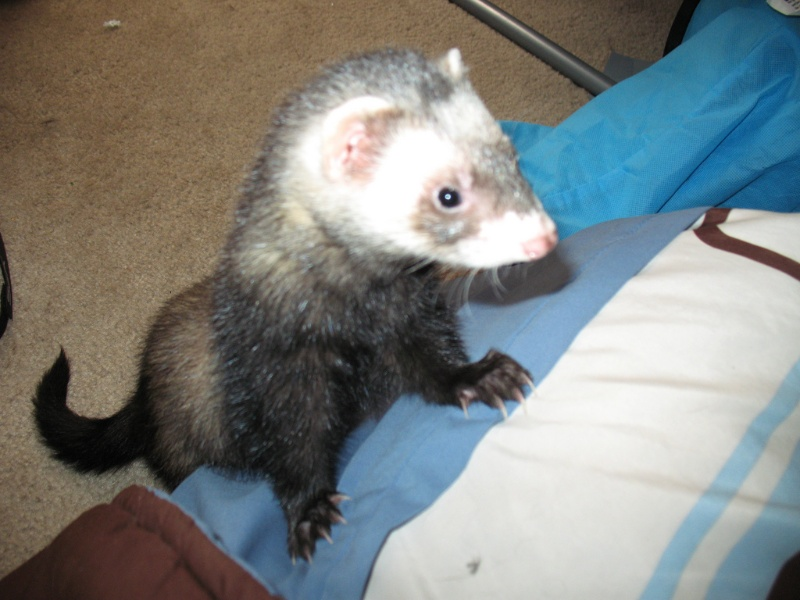minkish: (26, 40, 564, 571)
